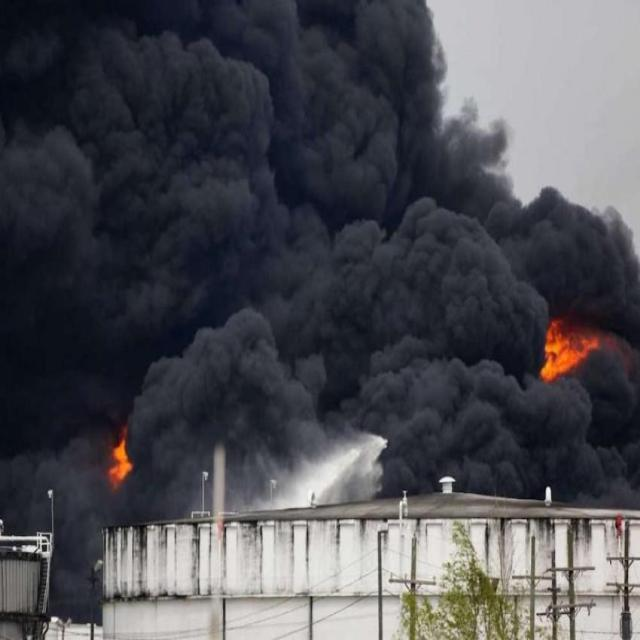Fire: (536, 319, 600, 384), (108, 440, 134, 486)
Smoke: (1, 3, 640, 623)
